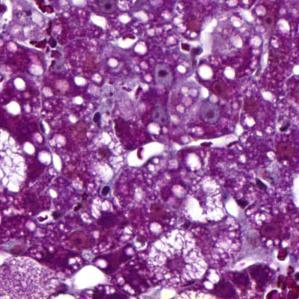ballooning: (145, 228, 209, 288), (4, 127, 29, 196)
